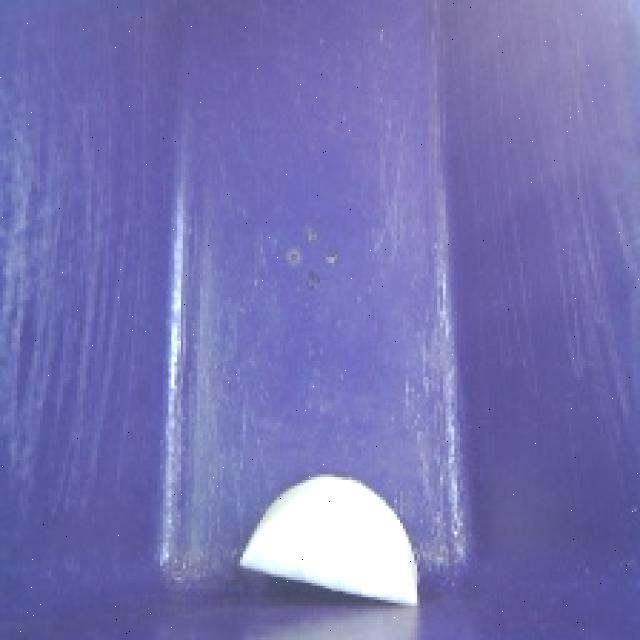white_radish: (225, 463, 433, 622)
